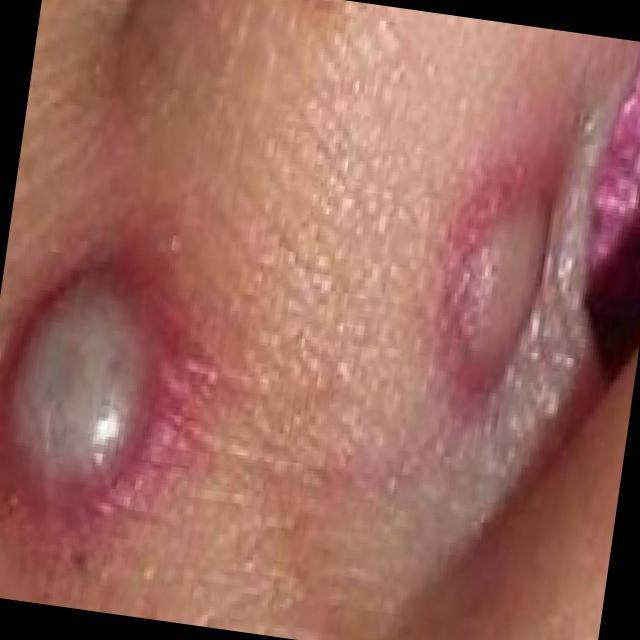Eczema: (0, 264, 188, 521), (427, 175, 562, 424)
